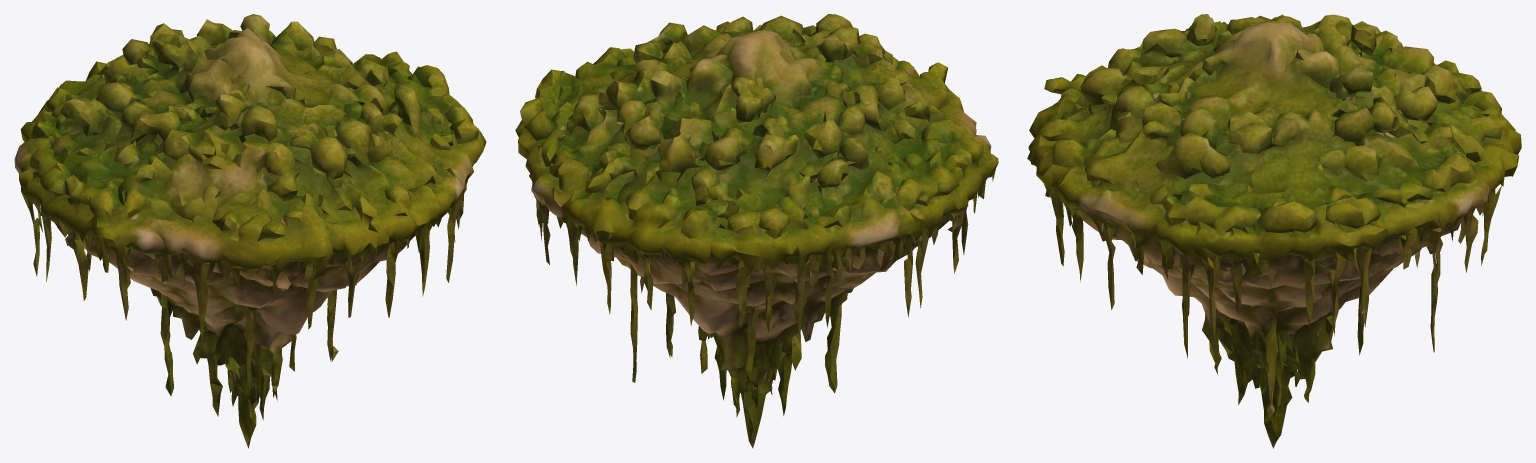
Rendered from isle-mass-hd.glb.
3 views of the same model, side by side, from view 1: azimuth 30°, elevation 25°; view 2: azimuth 150°, elevation 25°; view 3: azimuth 270°, elevation 25° (orthographic). The views are drawn at different scales.
Parts seen in each view (by area): view 1: isle-mass-hd.raw; view 2: isle-mass-hd.raw; view 3: isle-mass-hd.raw.
Boxes of the visible parts, x1,y1,x2,y2 form: isle-mass-hd.raw: (14, 14, 486, 448); isle-mass-hd.raw: (515, 14, 998, 448); isle-mass-hd.raw: (1027, 14, 1521, 448).
Bounding box in the file's own units: 10.51 × 9.99 × 10.58.
Materials: 1 (1 with a texture image).
